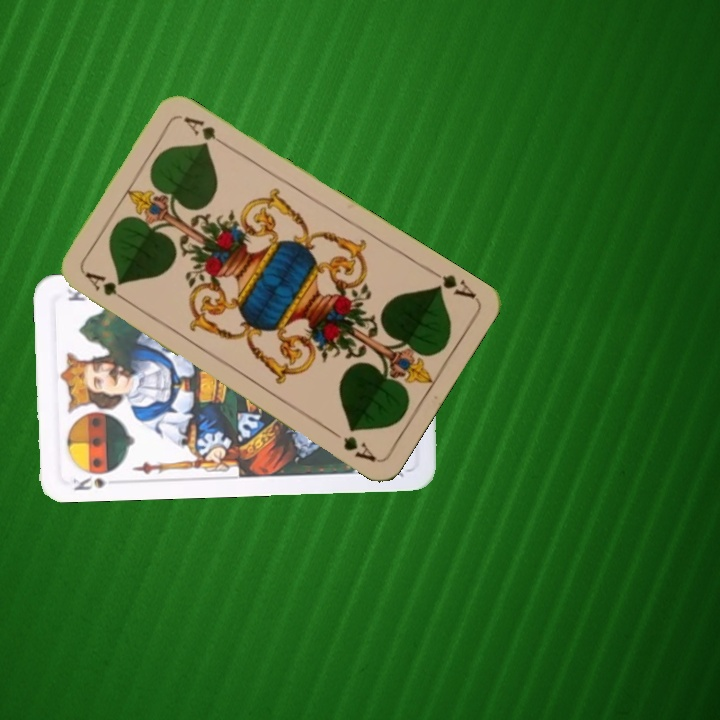GA: (425, 264, 479, 302), (81, 268, 133, 306)
SK: (68, 473, 109, 494)
